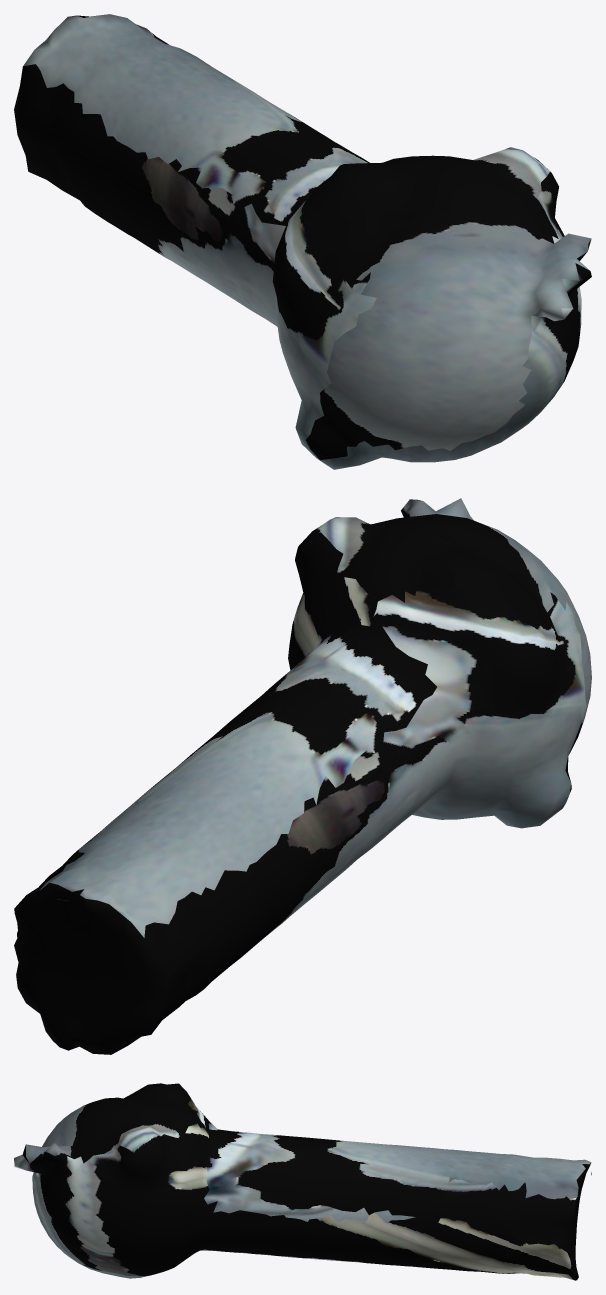
File: scan_align.obj
The picture shows the model from 3 angles, top to bottom: view 1: azimuth 30°, elevation 25°; view 2: azimuth 150°, elevation 25°; view 3: azimuth 270°, elevation 25°; orthographic projection. The views are drawn at different scales.
Bounding box in the file's own units: 0.0309 × 0.0308 × 0.0931.
